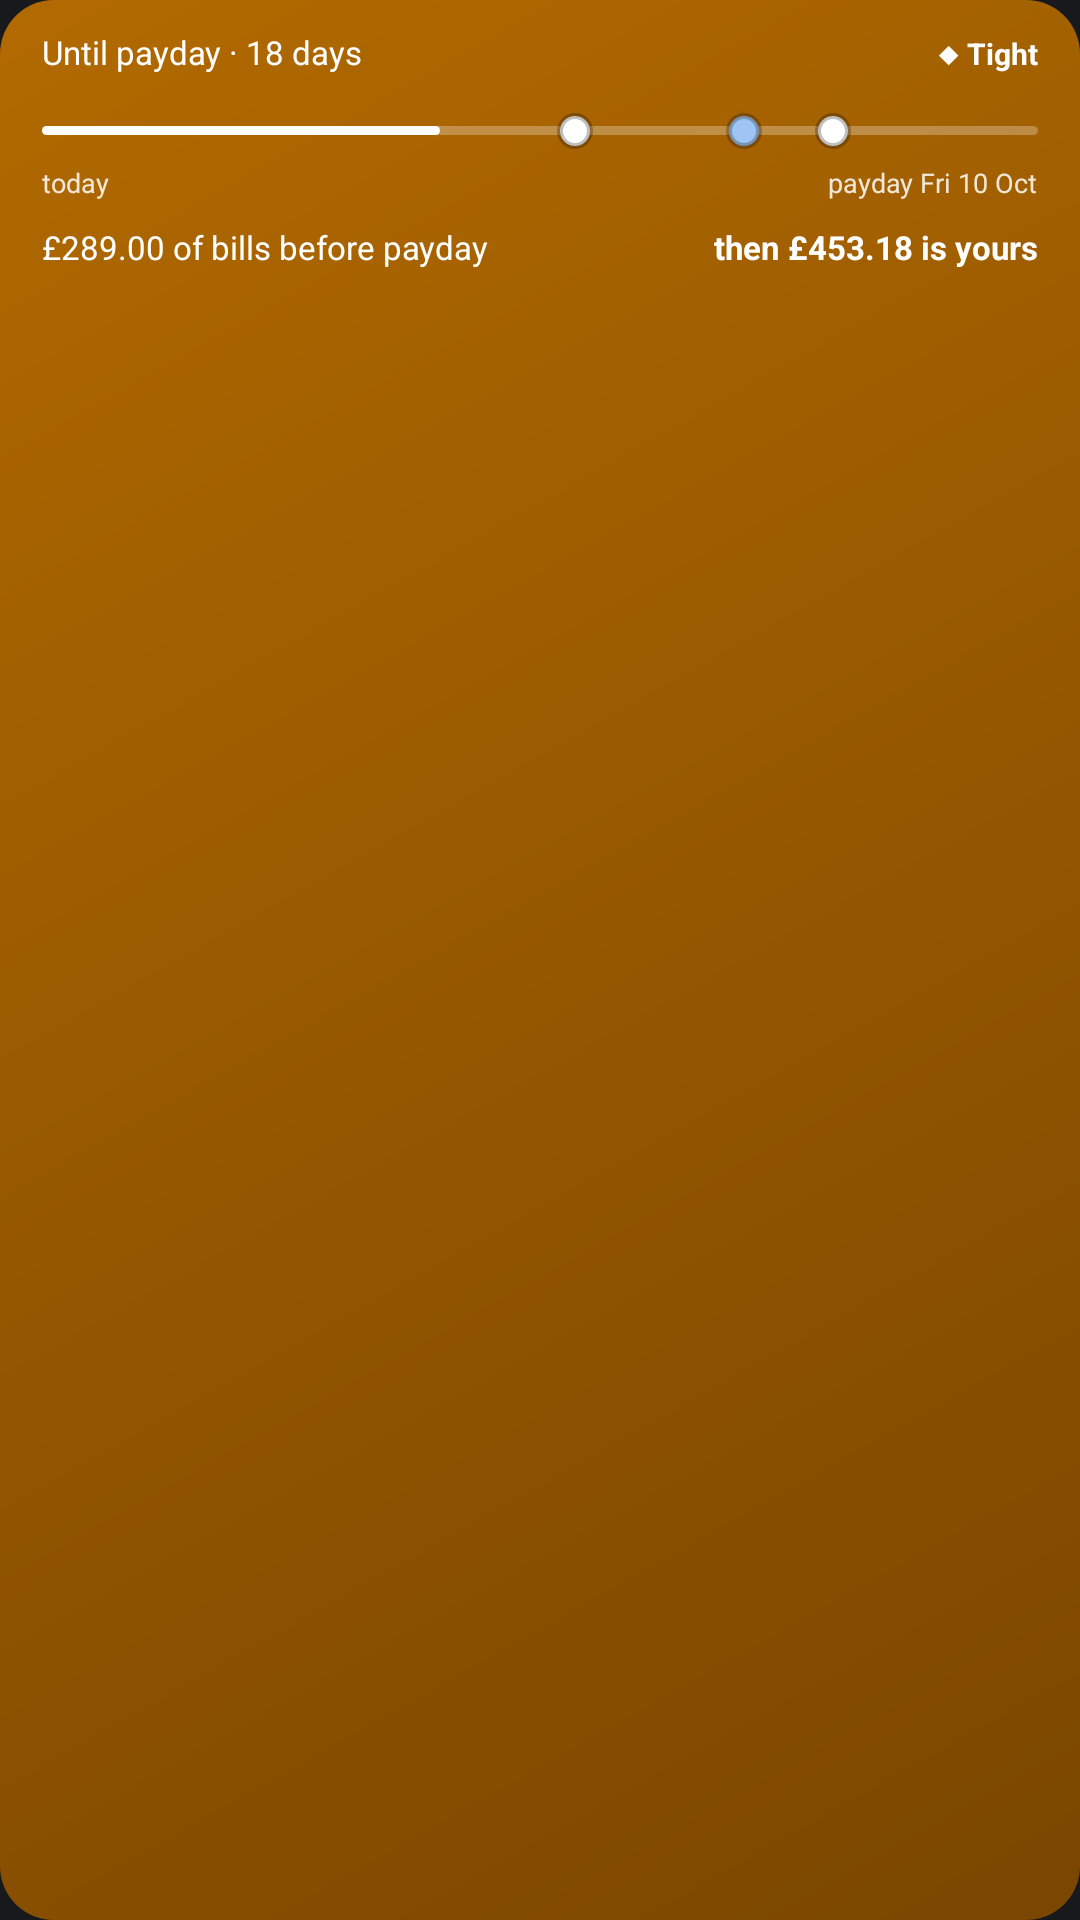

Icons on this 1080x1920 Android screen, each with its box as [x1=x1, y1=y1, x2=x2, y2=y2]:
dot: [x1=557, y1=113, x2=593, y2=149], [x1=815, y1=113, x2=851, y2=149]
